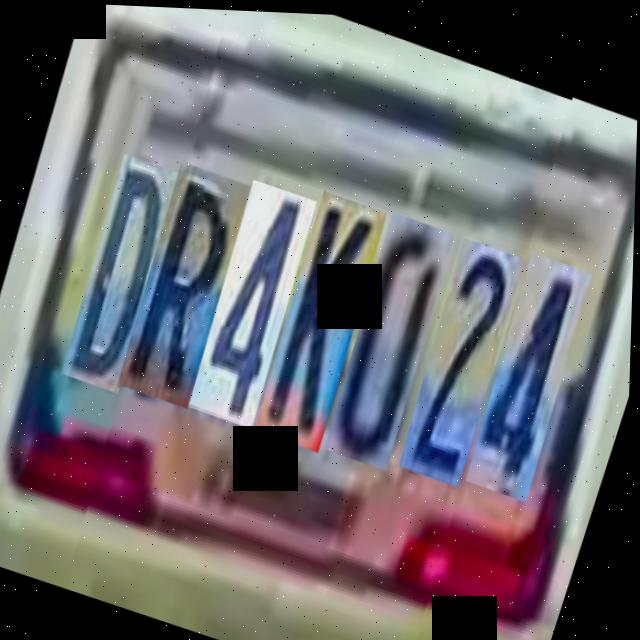0: (319, 204, 461, 467)
2: (392, 228, 531, 482)
4: (182, 175, 322, 426), (459, 245, 597, 499)
D: (57, 147, 187, 390)
K: (248, 183, 393, 449)
R: (112, 156, 256, 407)
